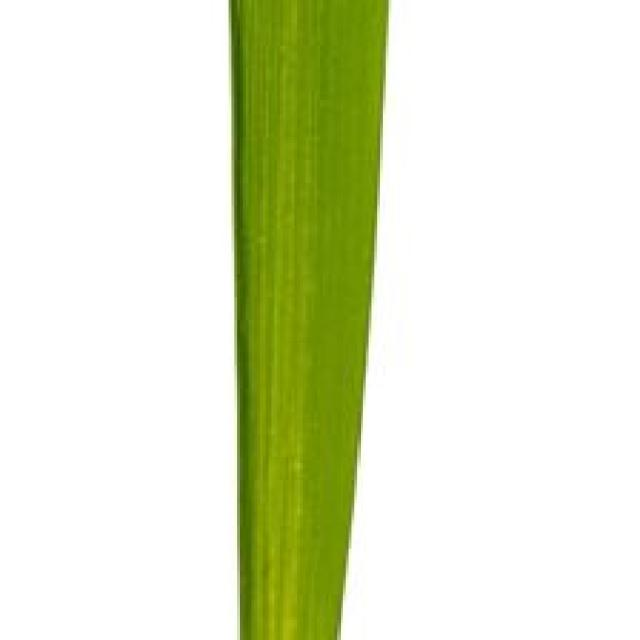Rice___Healthy_Rice_Plant: (229, 0, 391, 637)
